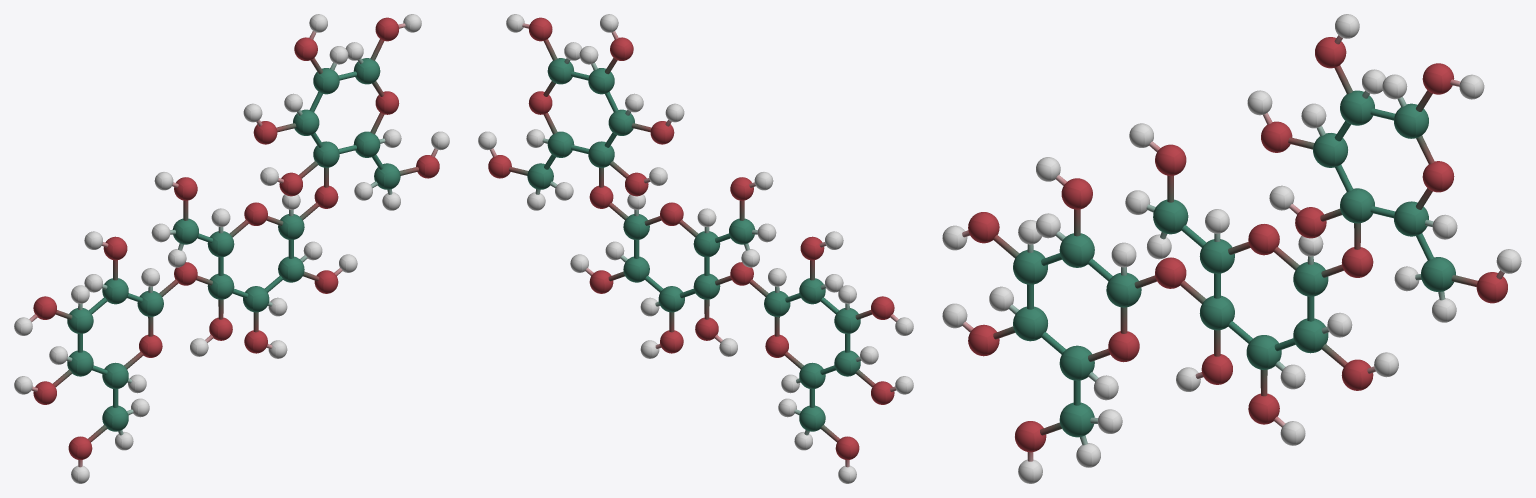
File: Beta-D-Glucan.fbx
3 views of the same model, side by side, from view 1: azimuth 30°, elevation 25°; view 2: azimuth 150°, elevation 25°; view 3: azimuth 330°, elevation 25° (orthographic). The views are drawn at different scales.
Parts seen in each view (by area): view 1: curMeshHyperballExportedMesh; view 2: curMeshHyperballExportedMesh; view 3: curMeshHyperballExportedMesh.
Boxes of the visible parts, x1=… form: curMeshHyperballExportedMesh: x1=14, y1=14, x2=449, y2=483; curMeshHyperballExportedMesh: x1=478, y1=14, x2=913, y2=483; curMeshHyperballExportedMesh: x1=942, y1=14, x2=1521, y2=483.
Bounding box in the file's own units: 10.68 × 9.65 × 0.5667.
